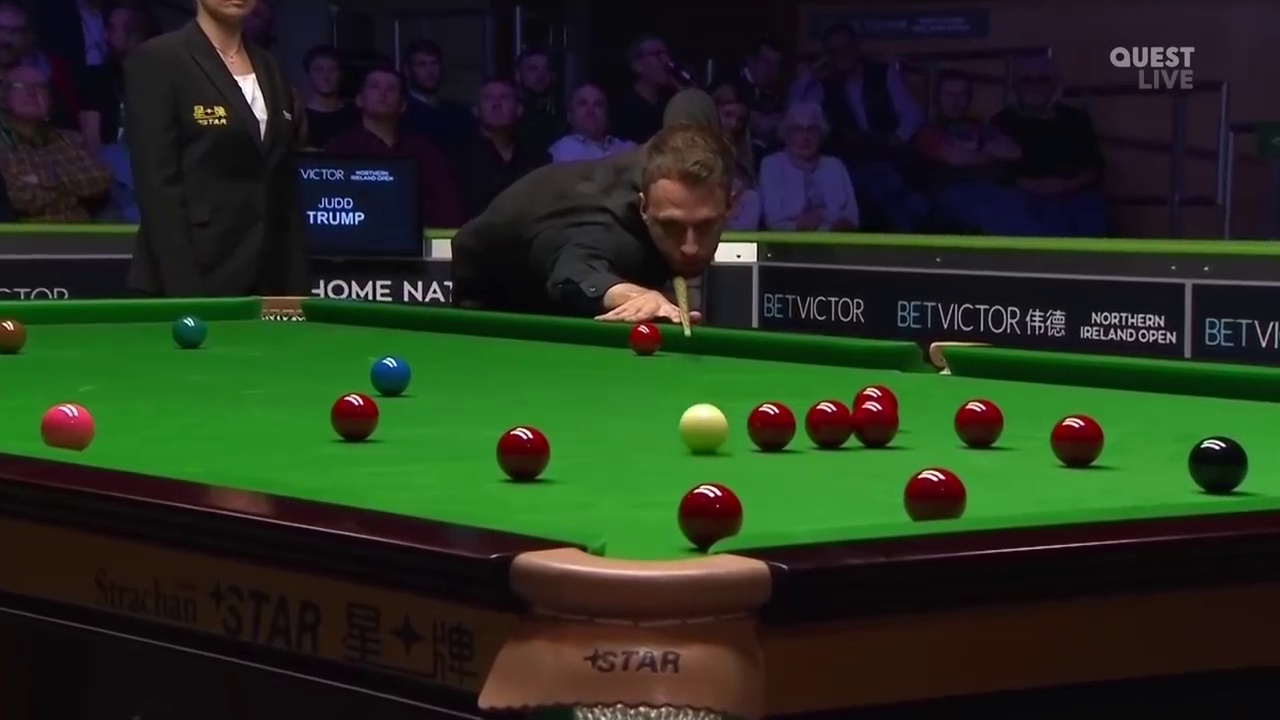ball: (1184, 438, 1247, 495), (1048, 413, 1103, 467), (493, 427, 549, 480), (327, 396, 387, 441), (676, 404, 728, 453), (747, 400, 796, 449), (955, 398, 1002, 447), (851, 399, 898, 445), (370, 352, 413, 395), (172, 314, 208, 347)
